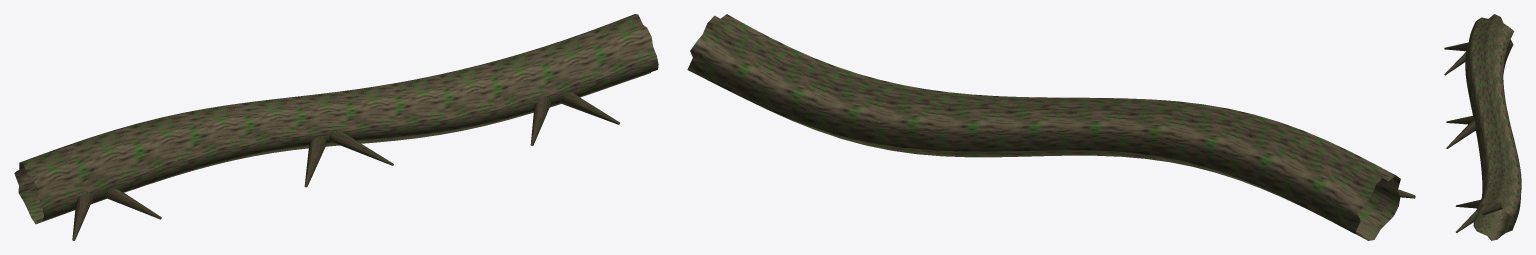
Rendered from Canopy Crossing.glb.
The picture shows the model from 3 angles, left to right: view 1: azimuth 30°, elevation 25°; view 2: azimuth 150°, elevation 25°; view 3: azimuth 270°, elevation 25°; orthographic projection. The views are drawn at different scales.
Visible parts, largest first — view 1: Canopy Crossing; view 2: Canopy Crossing; view 3: Canopy Crossing.
Part boxes in pixels (left/top/right/bottom): Canopy Crossing: left=14, top=14, right=658, bottom=240; Canopy Crossing: left=687, top=14, right=1415, bottom=240; Canopy Crossing: left=1444, top=14, right=1521, bottom=240.
Size of the model in its own units: 28.56 by 4.25 by 4.93.
Materials: 1 (1 with a texture image).
